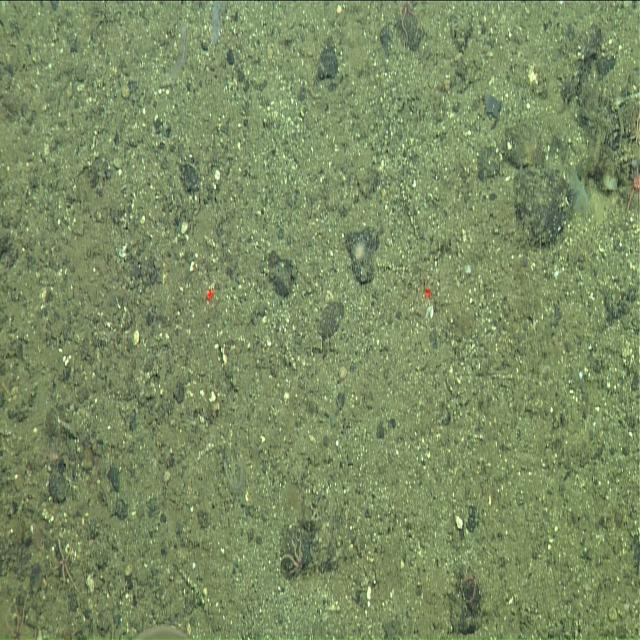Brittle Star: (46, 532, 82, 602)
